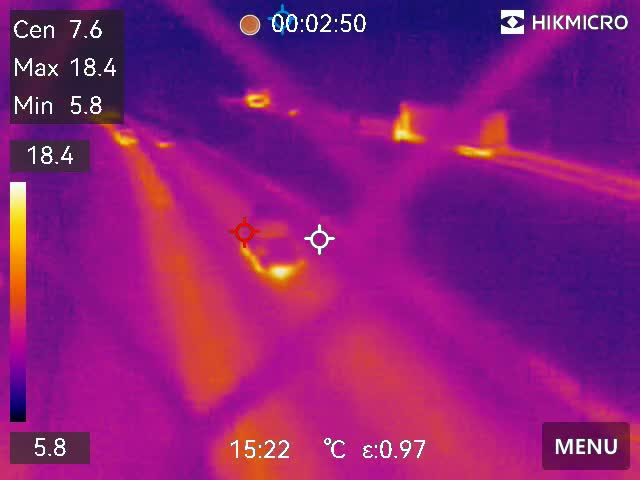heavyTruck: (389, 87, 510, 157)
